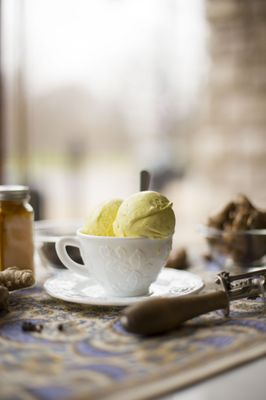pizza: (54, 206, 175, 298), (54, 231, 172, 298)
